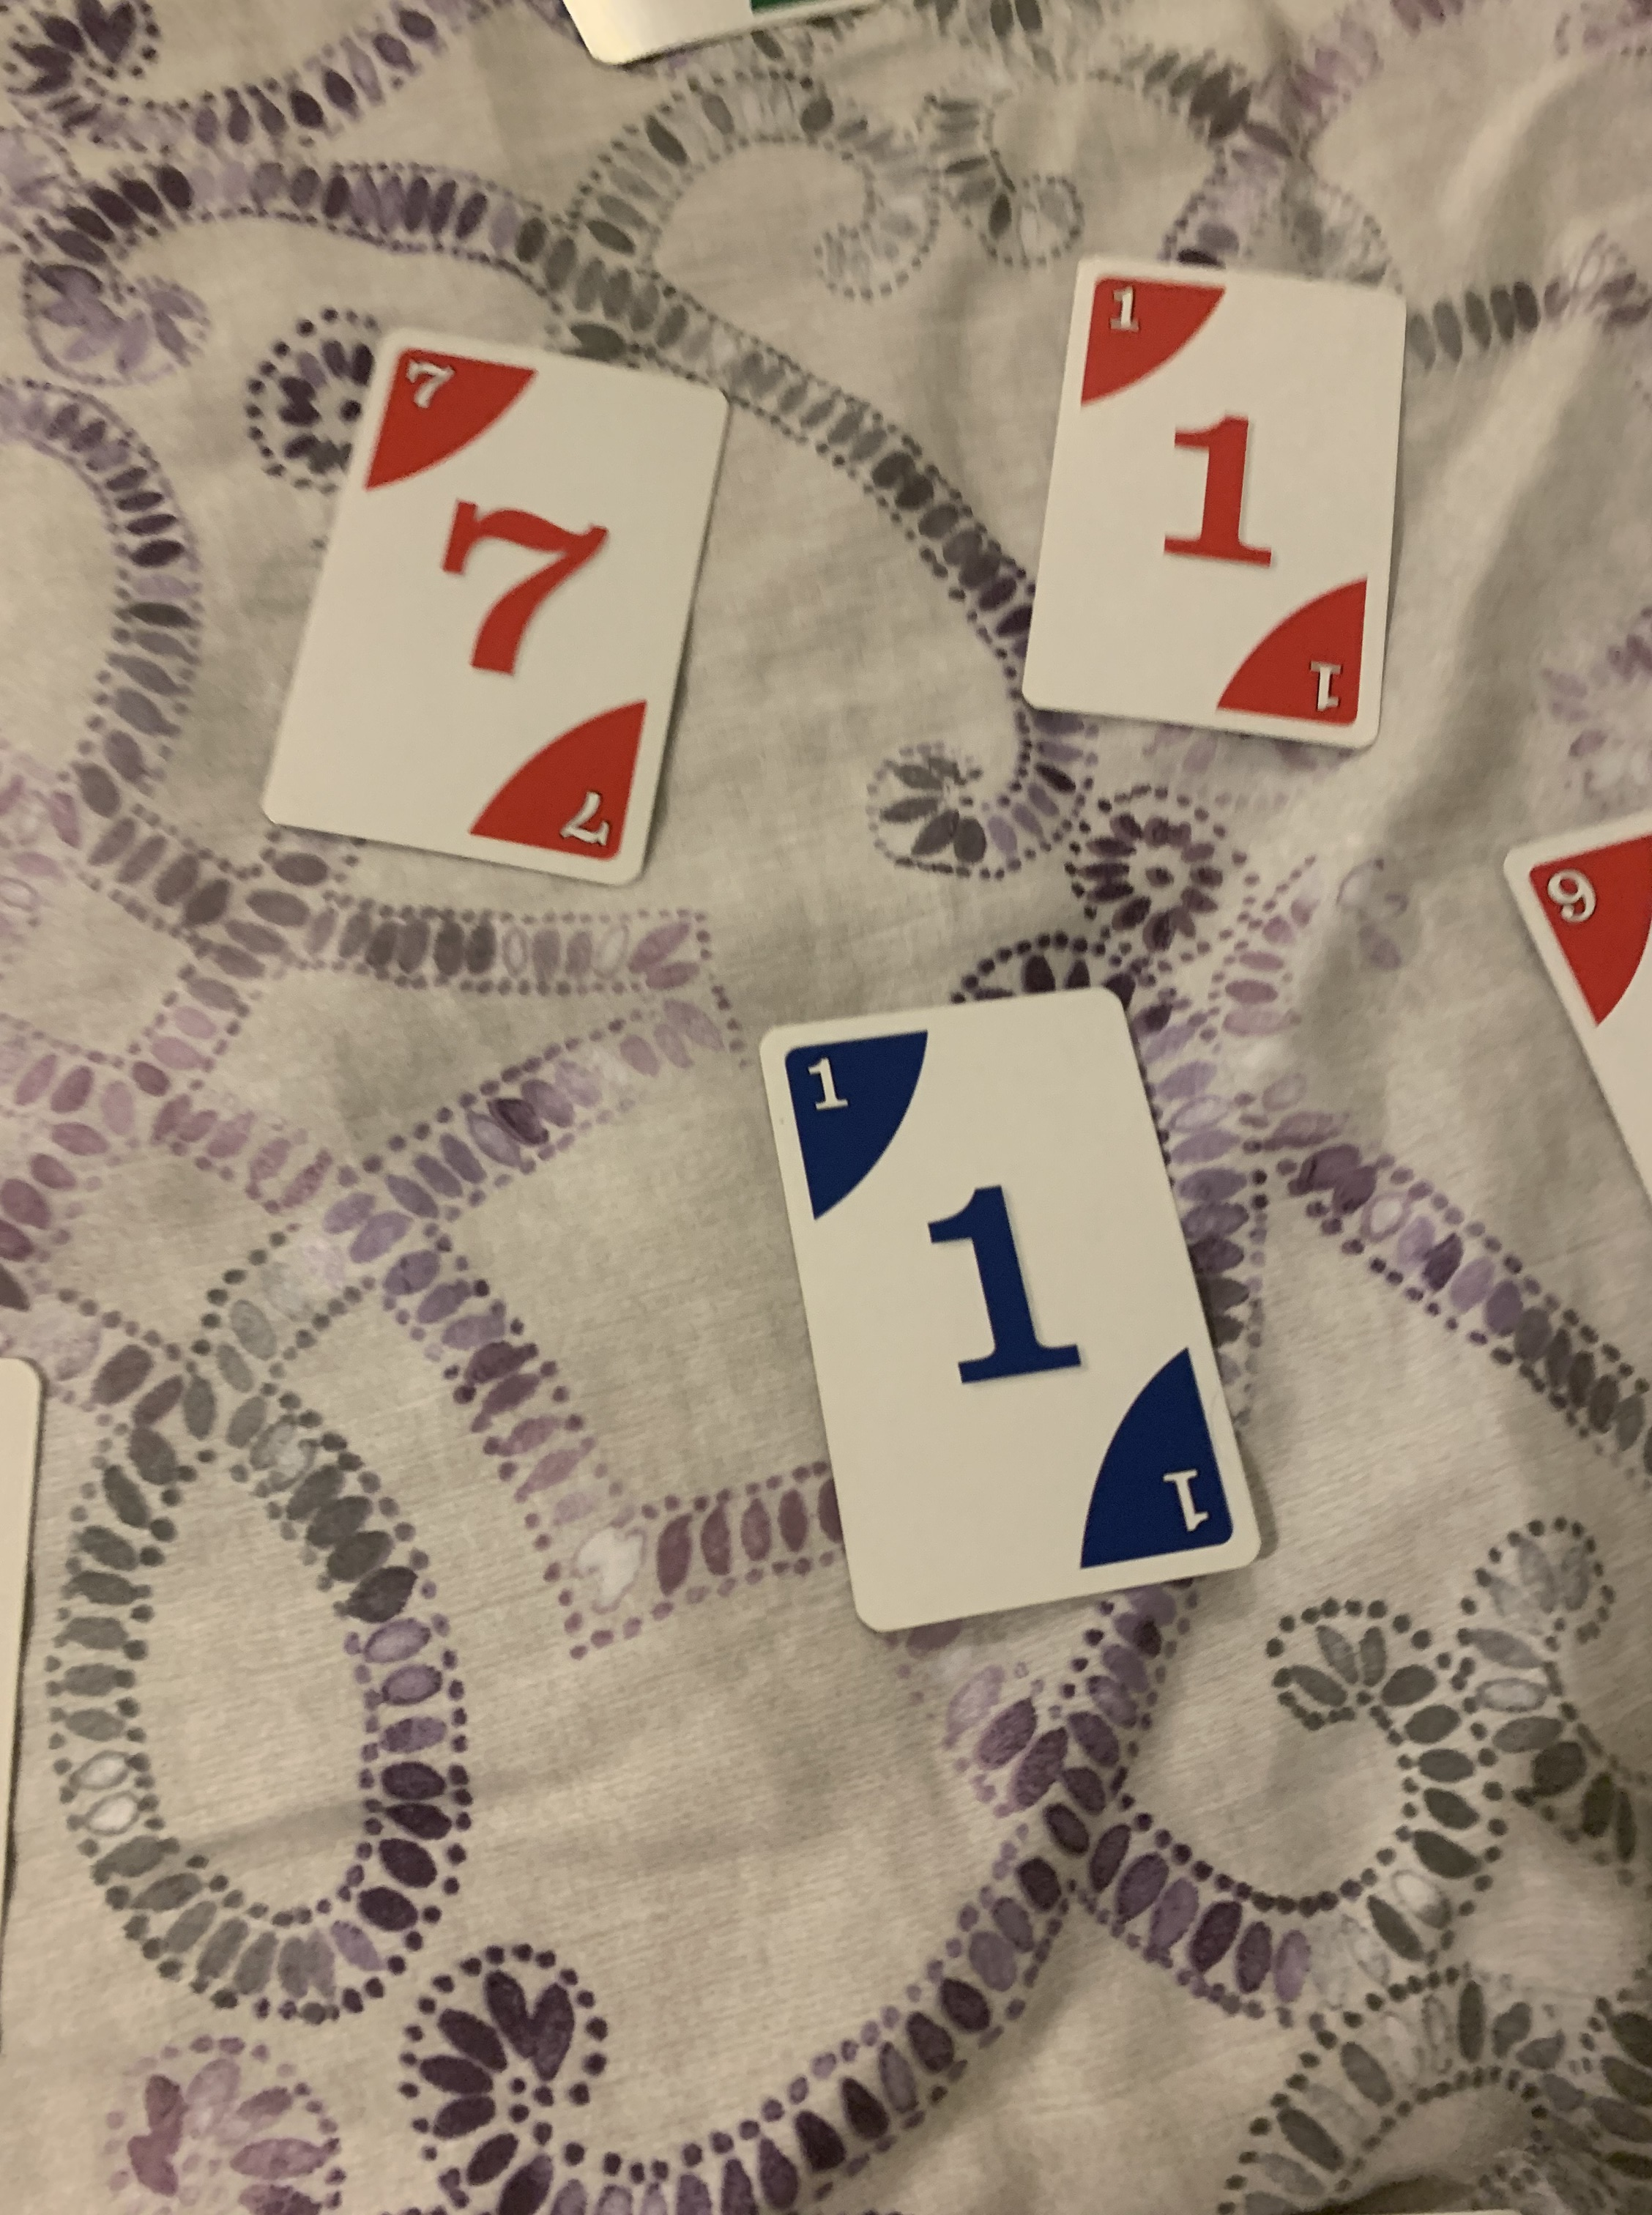one: (758, 986, 1263, 1640), (1008, 248, 1411, 757)
seven: (241, 312, 732, 901)
